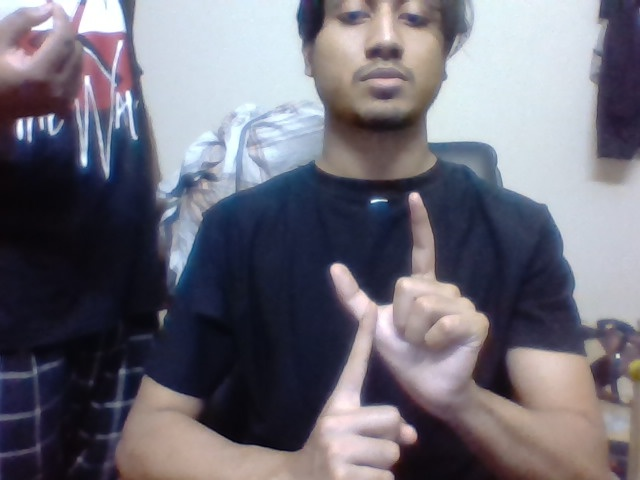Y: (319, 187, 439, 381)
